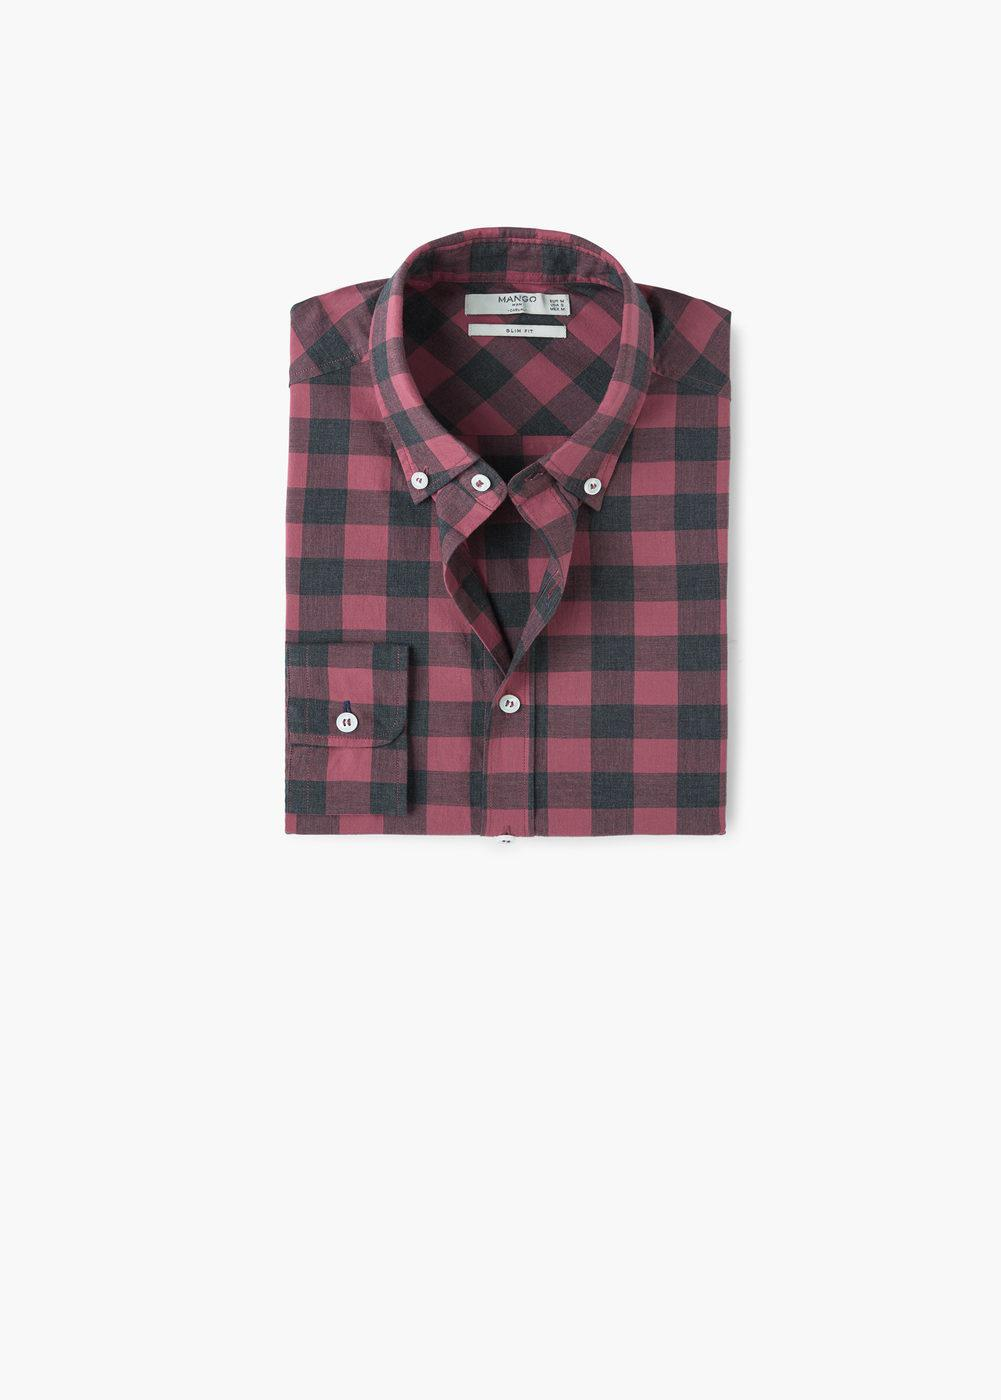teeshirt: (250, 206, 770, 867)
